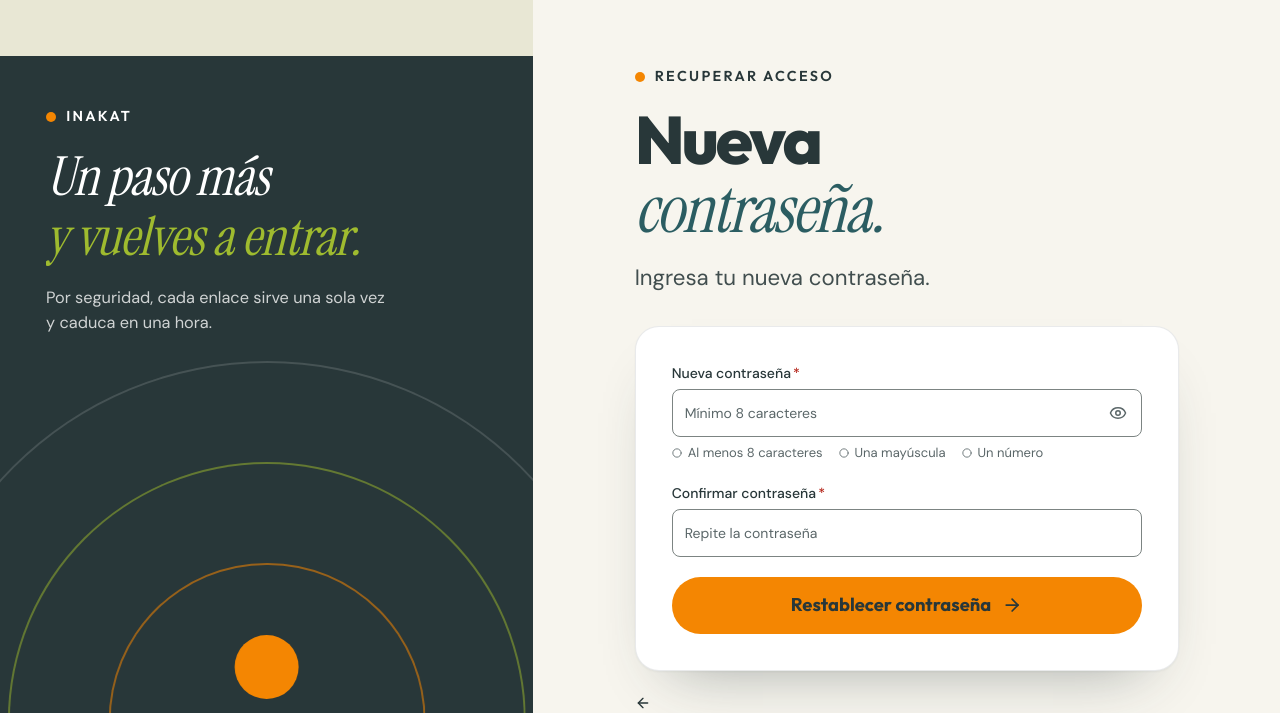
Test: AUTHUI-008: política de contraseña en /reset-password › sigue exigiendo que ambas contraseñas coincidan
Type "Abcdefgh1" into the password field with placeholder "Mínimo 8 caracteres" at (907, 413), box x1=672 y1=389 x2=1142 y2=437
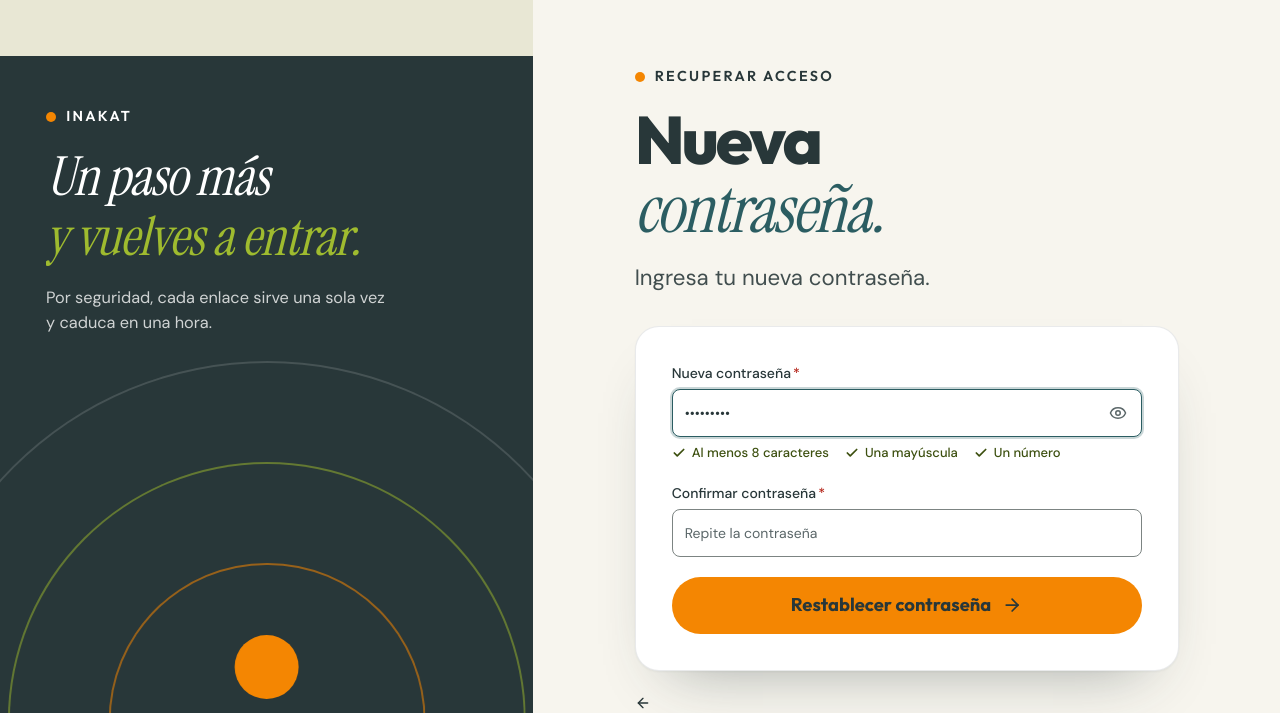
Type "Abcdefgh2" into the password field with placeholder "Repite la contraseña" at (907, 533), box x1=672 y1=509 x2=1142 y2=557
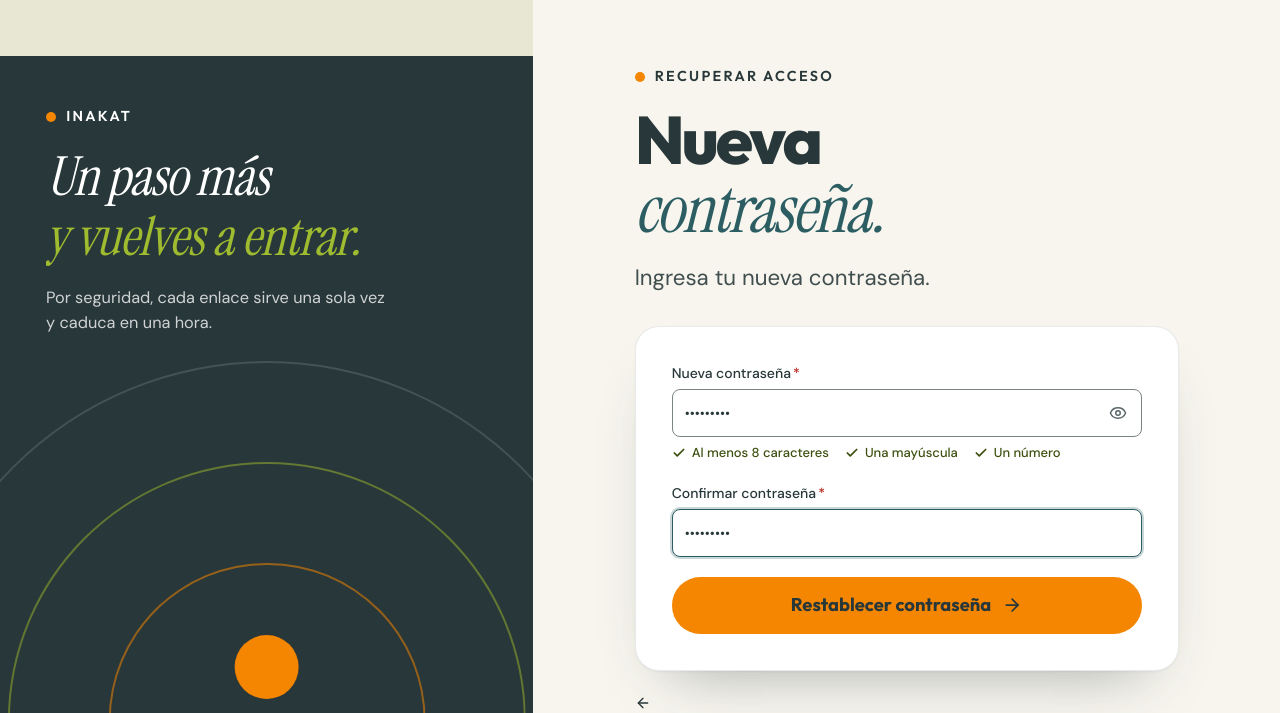
Submit the form named "Restablecer contraseña", box x1=672 y1=363 x2=1142 y2=634
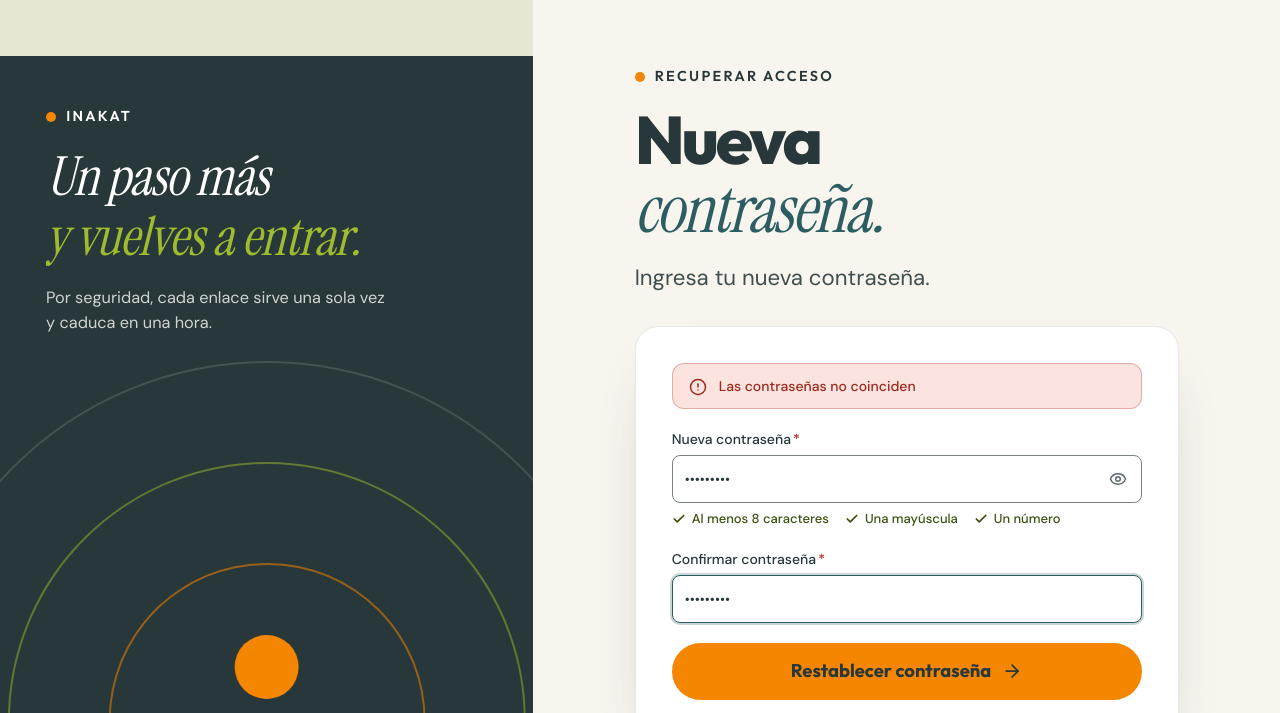
Expected: the text "Las contraseñas no coinciden" is shown, x1=719 y1=377 x2=916 y2=395
